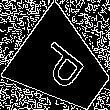P_SE: (33, 36, 93, 96)
